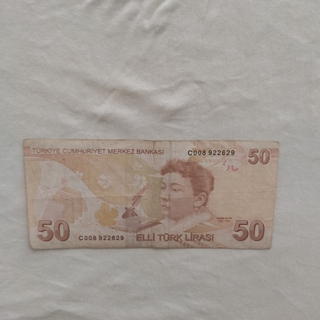50TLBack: (22, 138, 279, 250)
